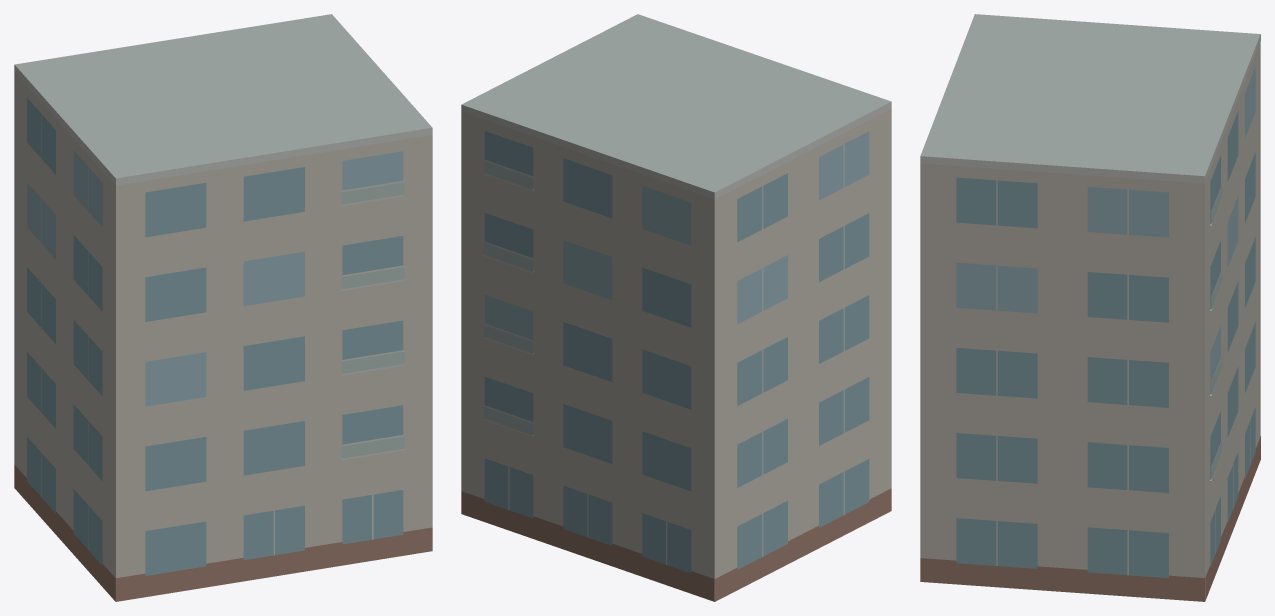
Rendered from survey-upis-32931408.glb.
3 views of the same model, side by side, from view 1: azimuth 30°, elevation 25°; view 2: azimuth 150°, elevation 25°; view 3: azimuth 270°, elevation 25° (orthographic). The views are drawn at different scales.
Parts seen in each view (by area): view 1: survey-upis-32931408.tmp; view 2: survey-upis-32931408.tmp; view 3: survey-upis-32931408.tmp.
Part boxes in pixels (<box>): survey-upis-32931408.tmp: <box>14,14,432,601</box>; survey-upis-32931408.tmp: <box>461,14,891,601</box>; survey-upis-32931408.tmp: <box>920,14,1260,601</box>.
Size of the model in its own units: 11.86 by 14.5 by 10.52.
